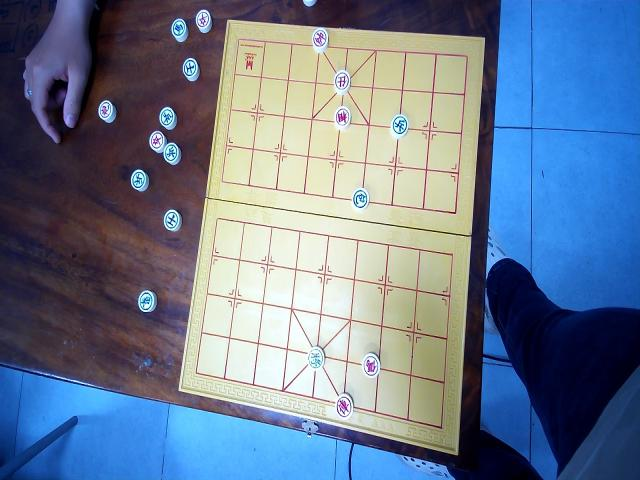piece: (361, 352, 381, 378), (335, 392, 353, 419), (162, 209, 182, 232), (333, 104, 351, 129), (159, 106, 177, 131), (390, 113, 408, 138), (171, 16, 188, 42), (312, 26, 328, 53), (98, 98, 116, 122), (138, 289, 156, 313), (351, 186, 369, 210), (148, 129, 166, 152), (334, 68, 351, 92), (182, 56, 199, 80), (196, 7, 212, 32), (130, 168, 148, 190), (163, 141, 180, 164), (308, 346, 324, 370), (302, 0, 316, 6)
